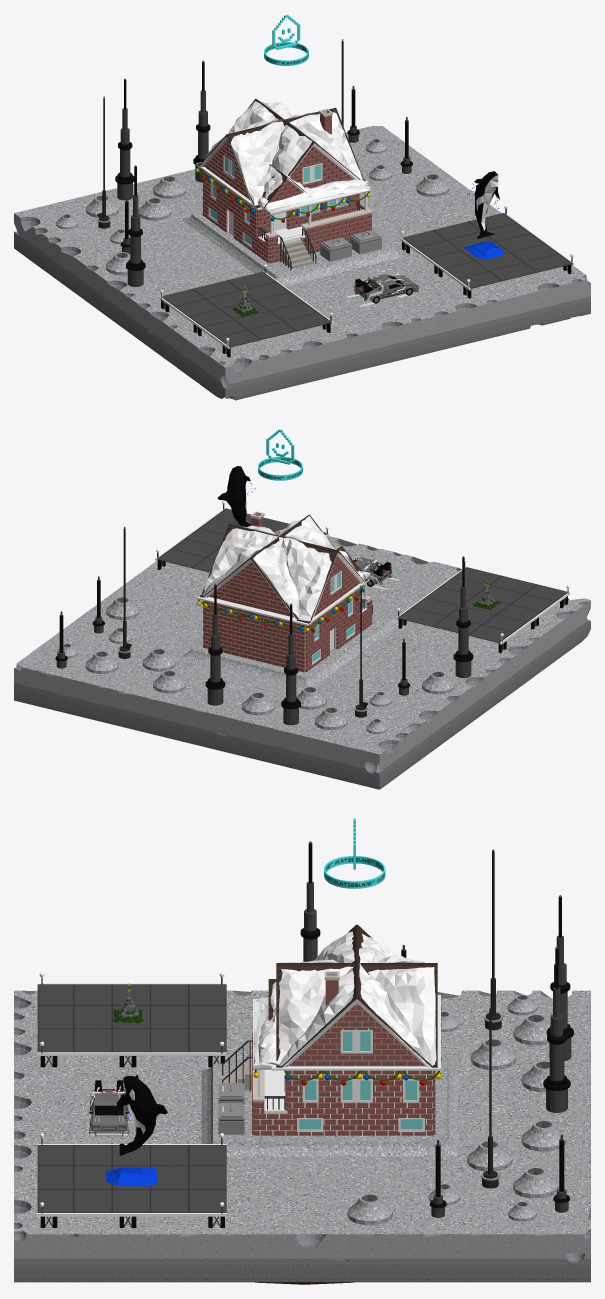
3 views of the same model, one above another, from view 1: azimuth 30°, elevation 25°; view 2: azimuth 150°, elevation 25°; view 3: azimuth 270°, elevation 25° (orthographic). The views are drawn at different scales.
Visible parts, largest first — view 1: Cube.027, Cube.1419, Cube.025, Cube.026, Cube.028, ANIMAL_ORCA, VEHICLES_DELOREAN, Cylinder.021, Cylinder.020, TYPE_PREMIUM, Cylinder.017, Cube.029 (+4 smaller); view 2: Cube.027, Cube.1419, Cube.025, Cube.028, Cube.026, Cylinder.017, Cylinder.021, Cylinder.020, ANIMAL_ORCA, TYPE_PREMIUM, VEHICLES_DELOREAN, Cylinder.030 (+8 smaller); view 3: Cube.027, Cube.1419, Cube.025, Cube.026, Cube.028, ANIMAL_ORCA, Cylinder.017, VEHICLES_DELOREAN, Cylinder.020, Cylinder.021, TYPE_PREMIUM, Cylinder.033 (+11 smaller).
Part boxes in pixels (left/top/right/bottom): Cube.027: left=14, top=126, right=590, bottom=400; Cube.1419: left=196, top=99, right=372, bottom=269; Cube.025: left=159, top=264, right=333, bottom=357; Cube.026: left=400, top=205, right=574, bottom=298; Cube.028: left=182, top=211, right=403, bottom=286; ANIMAL_ORCA: left=463, top=171, right=503, bottom=259; VEHICLES_DELOREAN: left=346, top=269, right=419, bottom=307; Cylinder.021: left=126, top=165, right=145, bottom=286; Cylinder.020: left=115, top=78, right=134, bottom=200; TYPE_PREMIUM: left=264, top=14, right=308, bottom=65; Cylinder.017: left=193, top=60, right=210, bottom=182; Cube.029: left=320, top=237, right=351, bottom=261; Cube.027: left=14, top=536, right=590, bottom=789; Cube.1419: left=197, top=511, right=372, bottom=672; Cube.025: left=396, top=560, right=570, bottom=653; Cube.028: left=181, top=610, right=398, bottom=688; Cube.026: left=155, top=501, right=329, bottom=572; Cylinder.017: left=205, top=583, right=225, bottom=705; Cylinder.021: left=453, top=556, right=473, bottom=677; Cylinder.020: left=281, top=603, right=300, bottom=725; ANIMAL_ORCA: left=217, top=466, right=255, bottom=527; TYPE_PREMIUM: left=258, top=429, right=302, bottom=480; VEHICLES_DELOREAN: left=352, top=553, right=401, bottom=589; Cylinder.030: left=142, top=648, right=175, bottom=671; Cube.027: left=14, top=990, right=590, bottom=1282; Cube.1419: left=222, top=924, right=441, bottom=1135; Cube.025: left=37, top=972, right=226, bottom=1067; Cube.026: left=37, top=1133, right=226, bottom=1227; Cube.028: left=201, top=1063, right=457, bottom=1156; ANIMAL_ORCA: left=106, top=1075, right=167, bottom=1186; Cylinder.017: left=543, top=946, right=570, bottom=1112; VEHICLES_DELOREAN: left=81, top=1080, right=132, bottom=1136; Cylinder.020: left=546, top=895, right=573, bottom=1061; Cylinder.021: left=300, top=841, right=320, bottom=961; TYPE_PREMIUM: left=324, top=818, right=385, bottom=888; Cylinder.033: left=347, top=1193, right=392, bottom=1225.
Bounding box in the file's own units: 4000 × 2770 × 4000.
Materials: 51 (5 with a texture image).
